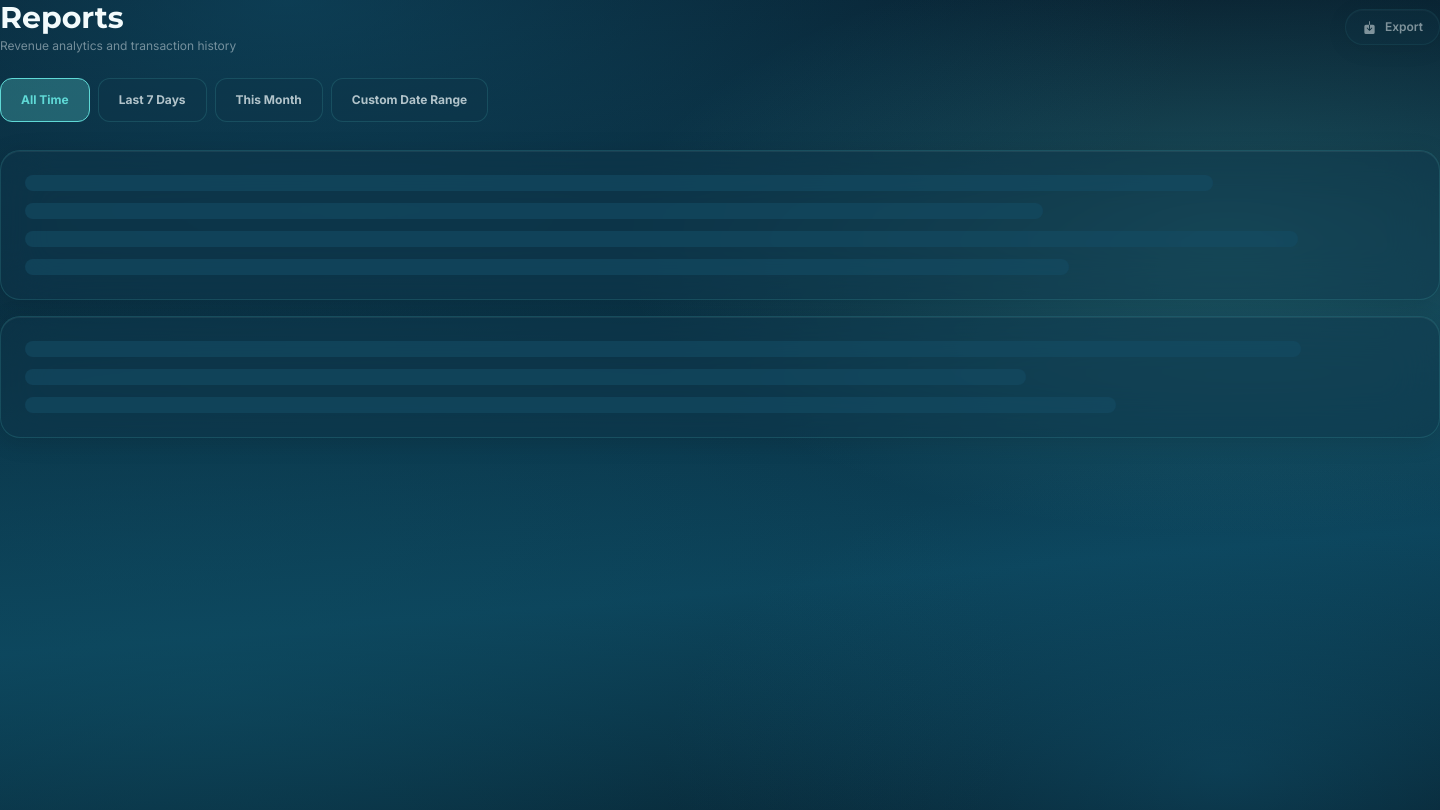
ReportsPage › shows Clear Filter when a filter is applied and resets it
Expected: the text "Clear Filter" is not shown
Click the button "This Month" at (269, 100), box [215,78,323,122]
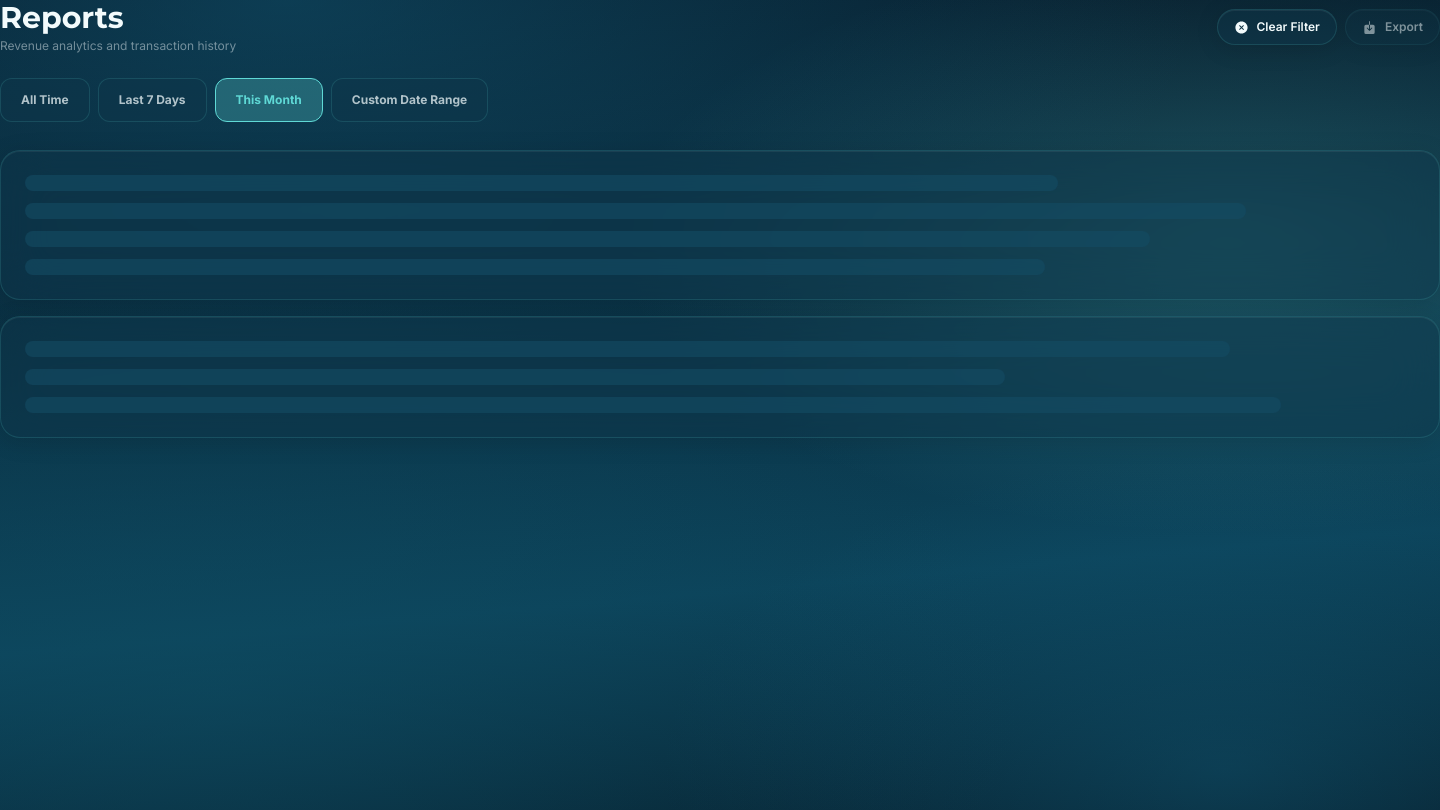
Now the button "Clear Filter" is shown
Click the button "Clear Filter" at (1277, 27), box [1216,9,1337,45]
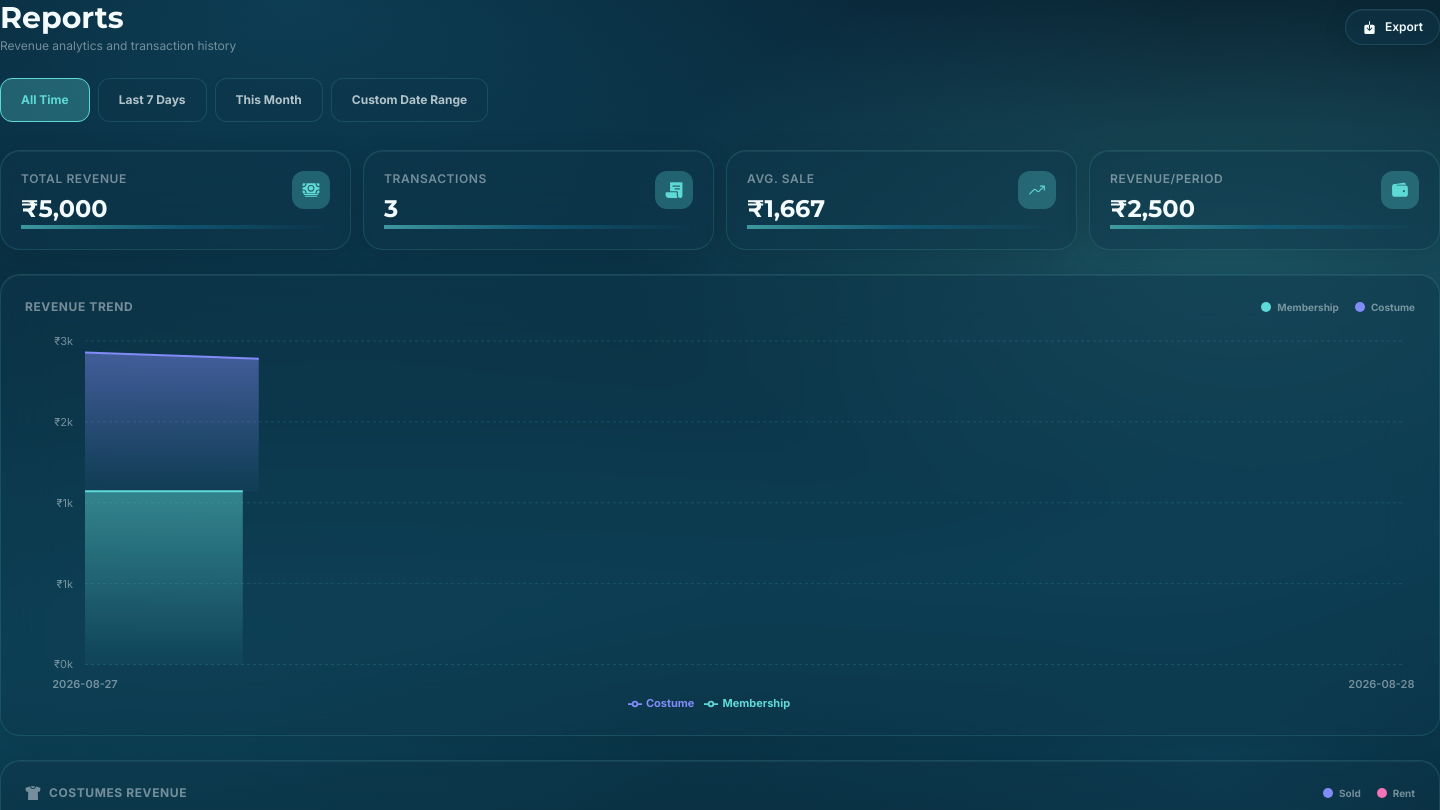
Now the button "Clear Filter" is gone
